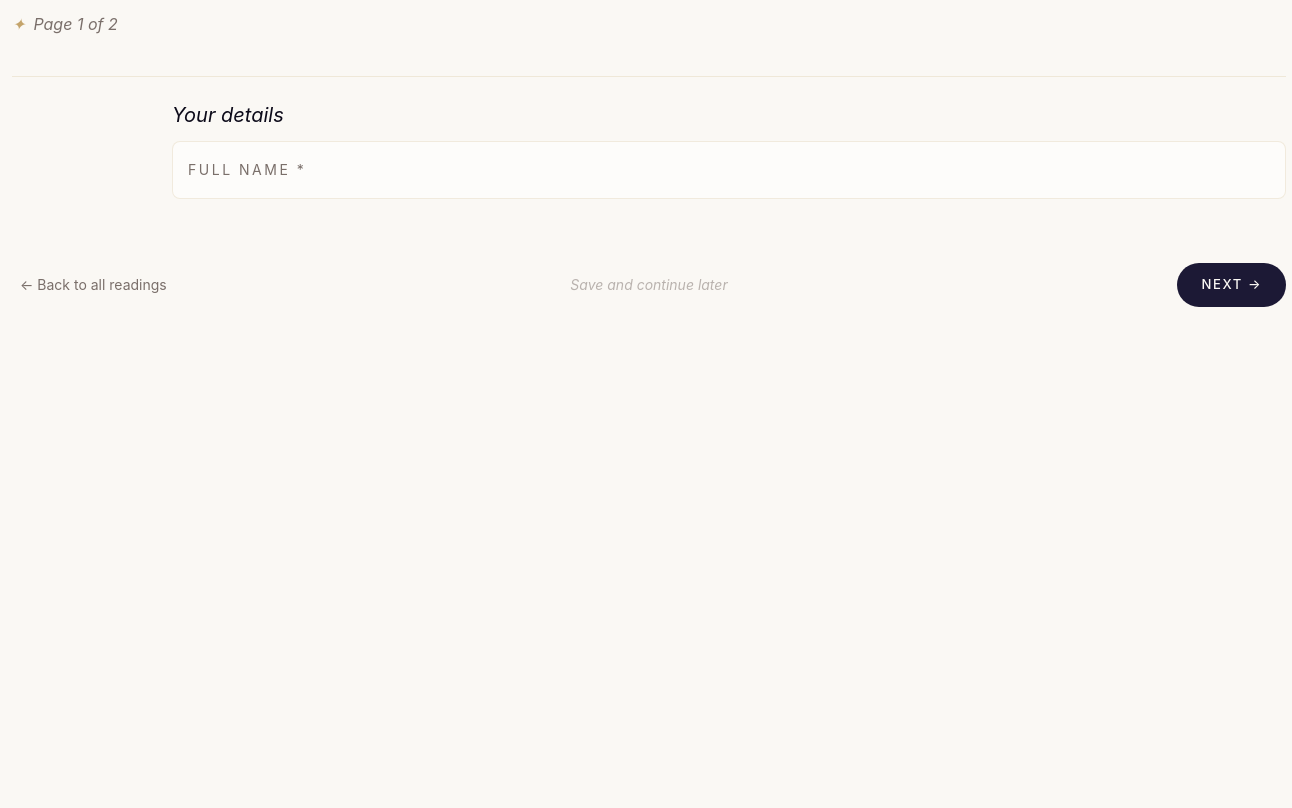
Test: IntakeForm — paginated flow › advances to page 2 when current-page validation passes
The width and height of the screenshot is (1292, 808).
Type "Ada Lovelace" into the field labelled "Full name *" at (729, 170), box [172,141,1286,199]
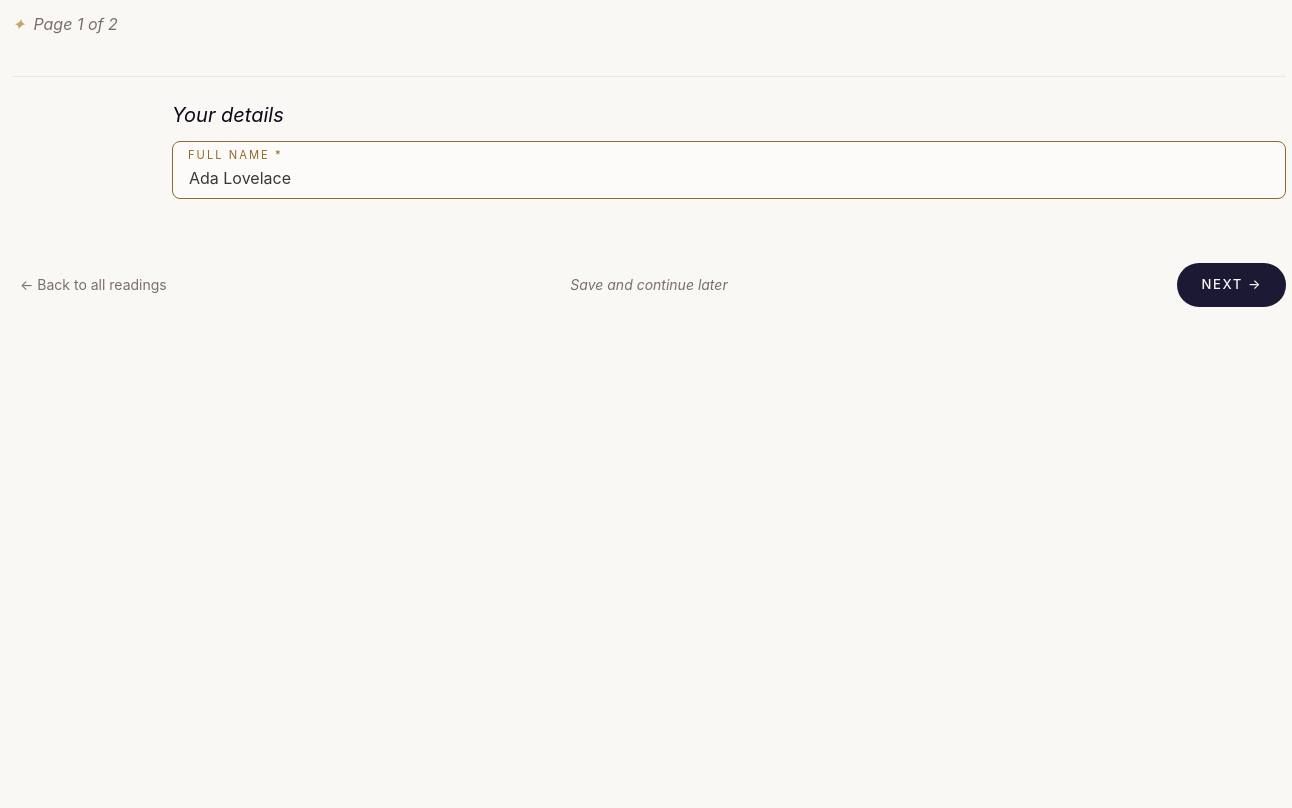
Click the button "Next →" at (1232, 285), box [1178,263,1286,307]
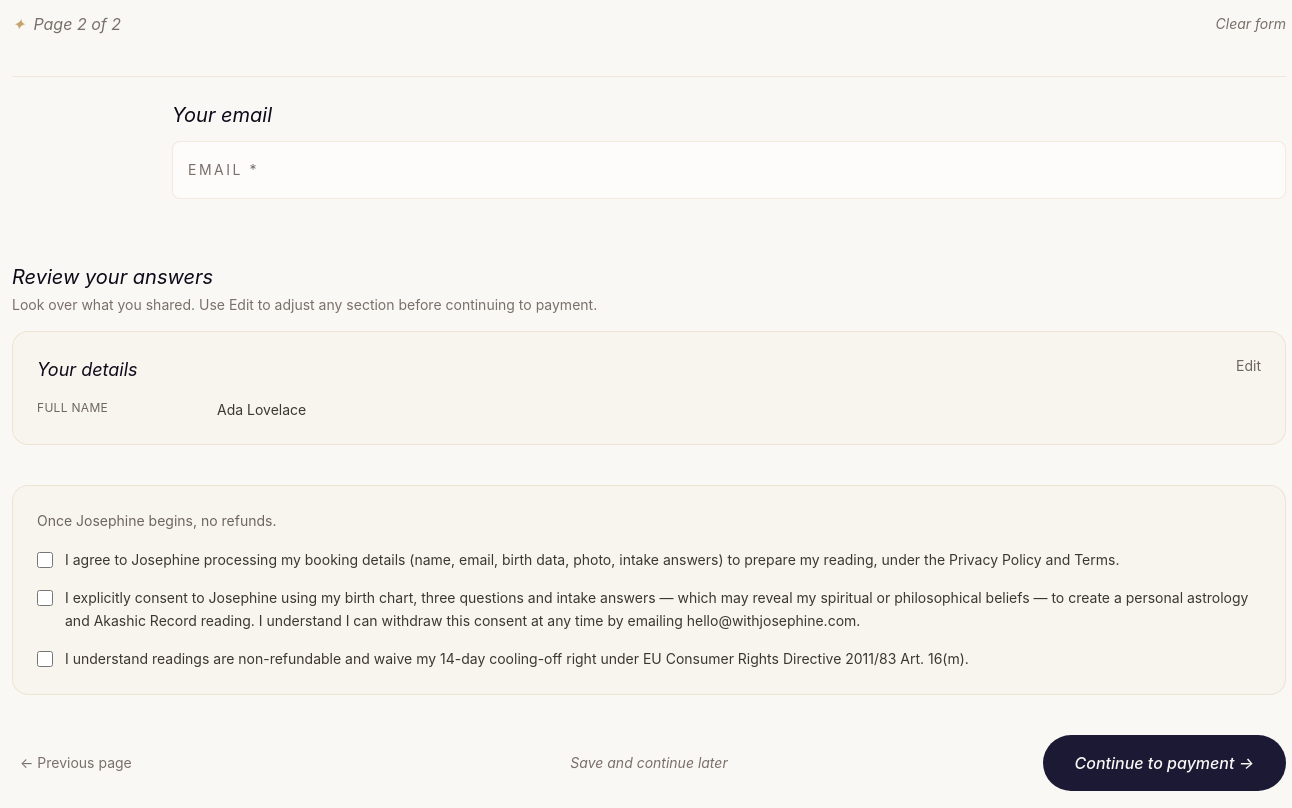
Now the heading "Your email" is shown, box [172,103,272,127]
Now the button "Continue to payment →" is shown, box [1042,735,1286,791]
